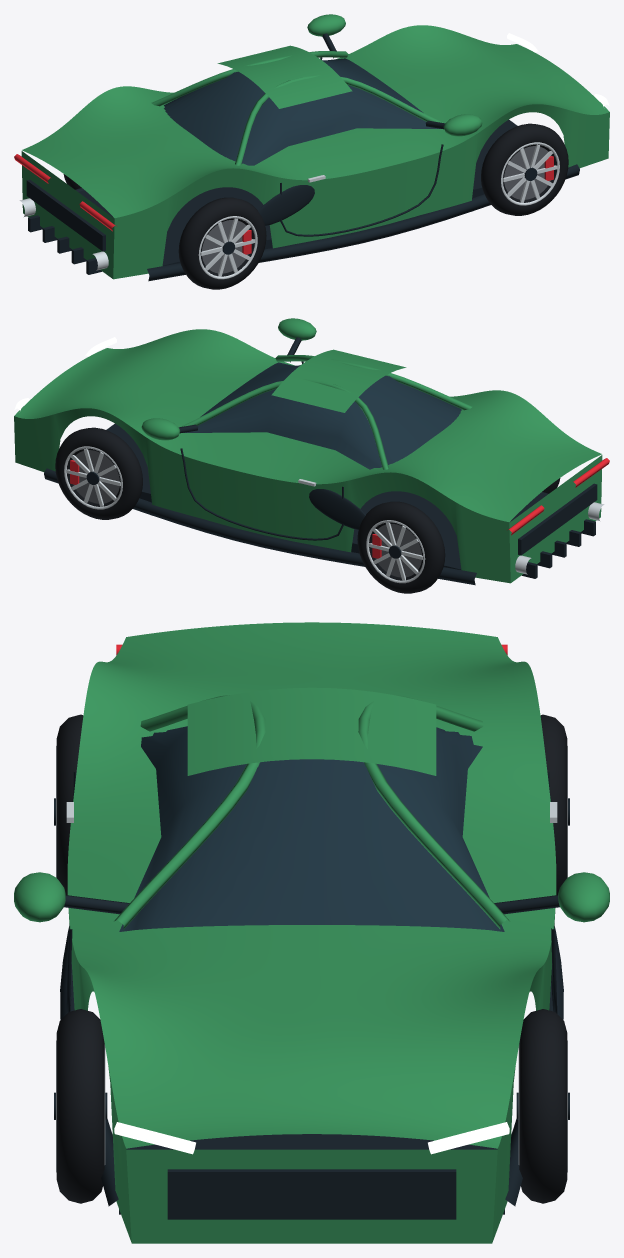
File: car24.glb
3 views of the same model, one above another, from view 1: azimuth 30°, elevation 25°; view 2: azimuth 150°, elevation 25°; view 3: azimuth 270°, elevation 25° (orthographic). The views are drawn at different scales.
Visible parts, largest first — view 1: CAR24, rim (×2); view 2: CAR24, rim (×2); view 3: CAR24, front-grille.
Boxes of the visible parts, x1,y1,x2,y2 form: CAR24: (14,14,609,289); rim (×2): (198,142,559,279); CAR24: (14,318,609,593); rim (×2): (64,446,425,583); CAR24: (14,622,609,1243); front-grille: (167,1169,456,1219).
Bounding box in the file's own units: 4.46 × 1.23 × 2.25.
